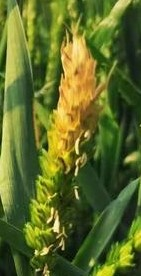Wheat scab: (29, 39, 105, 257)
